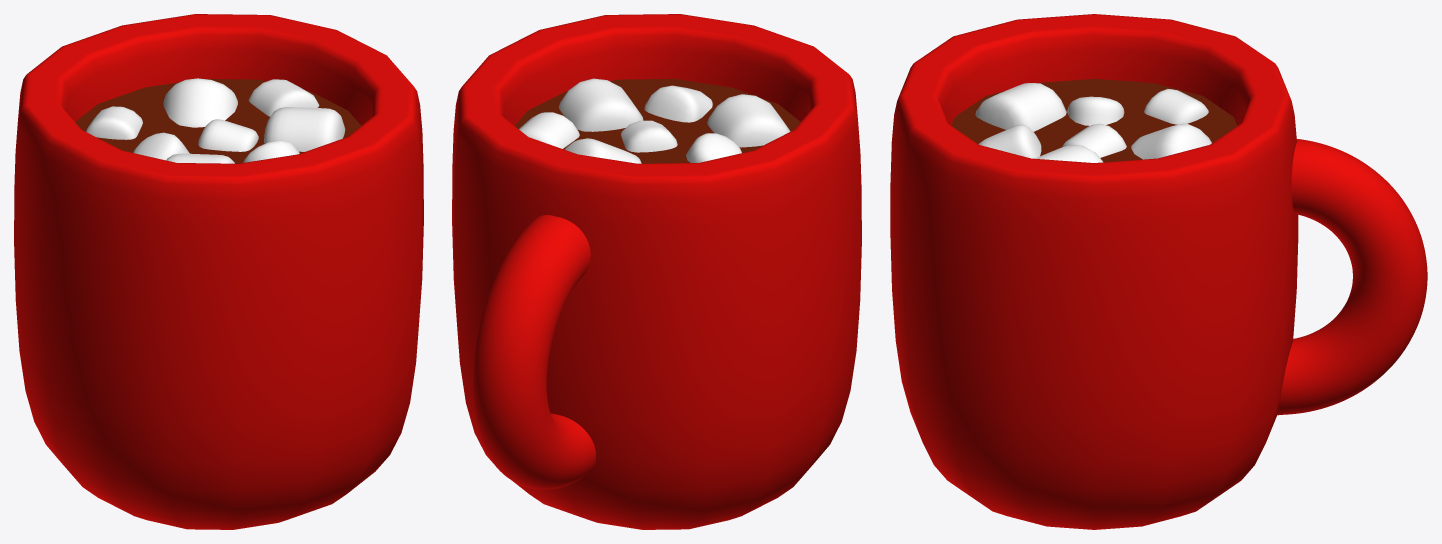
The model's file is chocomilk.fbx.
3 renders of one model, left to right at view 1: azimuth 30°, elevation 25°; view 2: azimuth 150°, elevation 25°; view 3: azimuth 270°, elevation 25°, orthographic.
Visible parts, largest first — view 1: Cube, Plane, Cube.001, Cube.003, Cube.005, Cube.006, Cube.007, Cube.008, Cube.004, Cube.002; view 2: Cube, Torus.001, Plane, Cube.003, Cube.002, Cube.004, Cube.005, Cube.006, Cube.008, Cube.001; view 3: Cube, Torus.001, Plane, Cube.002, Cube.001, Cube.007, Cube.008, Cube.004, Cube.006, Cube.003.
Part boxes in pixels (x1,y1,x2,y2): Cube: [14, 14, 423, 529]; Plane: [75, 79, 361, 163]; Cube.001: [163, 78, 237, 127]; Cube.003: [264, 107, 345, 151]; Cube.005: [248, 79, 319, 116]; Cube.006: [198, 119, 258, 151]; Cube.007: [86, 106, 142, 139]; Cube.008: [133, 132, 189, 160]; Cube.004: [243, 140, 299, 162]; Cube.002: [166, 153, 234, 163]; Cube: [452, 14, 861, 529]; Torus.001: [472, 215, 595, 489]; Plane: [514, 78, 800, 163]; Cube.003: [559, 78, 643, 131]; Cube.002: [707, 94, 790, 147]; Cube.004: [644, 85, 712, 122]; Cube.005: [519, 112, 579, 148]; Cube.006: [621, 120, 677, 152]; Cube.008: [686, 133, 741, 162]; Cube.001: [565, 138, 641, 163]; Cube: [890, 14, 1298, 529]; Torus.001: [1276, 139, 1427, 415]; Plane: [951, 78, 1237, 162]; Cube.002: [975, 83, 1066, 131]; Cube.001: [1131, 123, 1211, 159]; Cube.007: [1144, 89, 1208, 124]; Cube.008: [1067, 96, 1124, 125]; Cube.004: [978, 124, 1041, 158]; Cube.006: [1062, 123, 1126, 157]; Cube.003: [1035, 145, 1103, 162].
Bounding box in the file's own units: 182 × 199 × 240.
